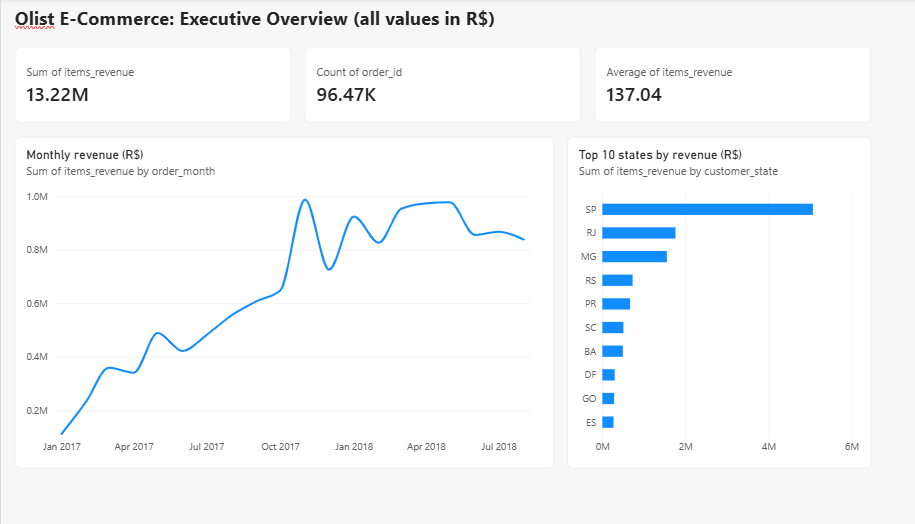

This screenshot's page, from the dashboard's own definition file:
{"tool":"powerbi","page":{"name":"Executive Overview","canvas":[1920,1080],"ordinal":0},"visuals":[{"type":"cardVisual","fields":{"Data":["Sum(orders_clean.items_revenue)"]},"box":[20,70,400,110],"z":0},{"type":"cardVisual","fields":{"Data":["Count(orders_clean.order_id)"]},"box":[440,70,400,110],"z":1000},{"type":"cardVisual","fields":{"Data":["Avg(orders_clean.items_revenue)"]},"box":[860,70,400,110],"z":2000},{"type":"lineChart","title":"Monthly revenue (R$)","fields":{"Category":["orders_clean.order_month"],"Y":["Sum(orders_clean.items_revenue)"]},"box":[20,200,780,480],"z":3000},{"type":"clusteredBarChart","title":"Top 10 states by revenue (R$)","fields":{"Category":["orders_clean.customer_state"],"Y":["Sum(orders_clean.items_revenue)"]},"box":[820,200,440,480],"z":4000},{"type":"textbox","box":[20,10,1000,50],"z":4001}]}

Visuals, with their boxes in screenshot pixels (x1, y1, x2, y2), scaled from the page's 1920x1080 canvas onto the 915x524 screenshot:
cardVisual - Sum(orders_clean.items_revenue): [x1=10, y1=34, x2=200, y2=87]
cardVisual - Count(orders_clean.order_id): [x1=210, y1=34, x2=400, y2=87]
cardVisual - Avg(orders_clean.items_revenue): [x1=410, y1=34, x2=600, y2=87]
"Monthly revenue (R$)" lineChart: [x1=10, y1=97, x2=381, y2=330]
"Top 10 states by revenue (R$)" clusteredBarChart: [x1=391, y1=97, x2=600, y2=330]
textbox: [x1=10, y1=5, x2=486, y2=29]
